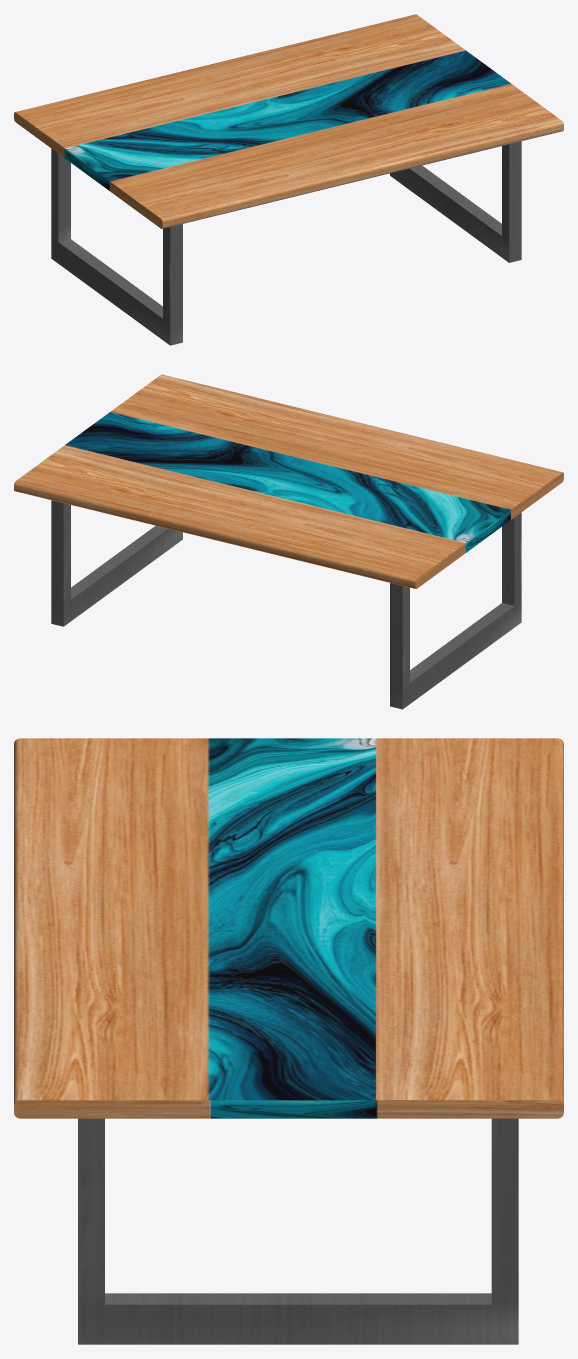
The model's file is Table Model.fbx.
3 views of the same model, one above another, from view 1: azimuth 30°, elevation 25°; view 2: azimuth 150°, elevation 25°; view 3: azimuth 270°, elevation 25° (orthographic). The views are drawn at different scales.
Parts seen in each view (by area): view 1: Table_Main; view 2: Table_Main; view 3: Table_Main.
Part boxes in pixels (x1,y1,x2,y2): Table_Main: (14, 14, 563, 345); Table_Main: (14, 374, 563, 709); Table_Main: (14, 738, 563, 1344).
Size of the model in its own units: 14.79 by 5.08 by 9.5.
Materials: 1 (1 with a texture image).
